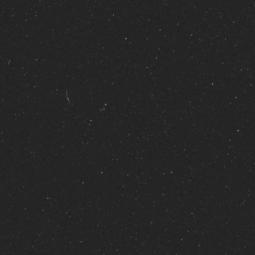debris: (62, 82, 95, 106)
